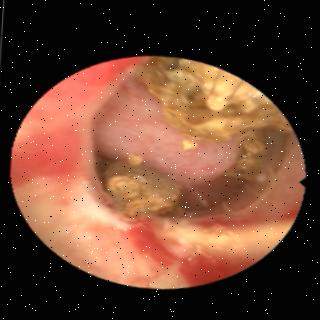stone: (137, 56, 290, 176), (102, 154, 185, 214), (184, 136, 198, 146)
